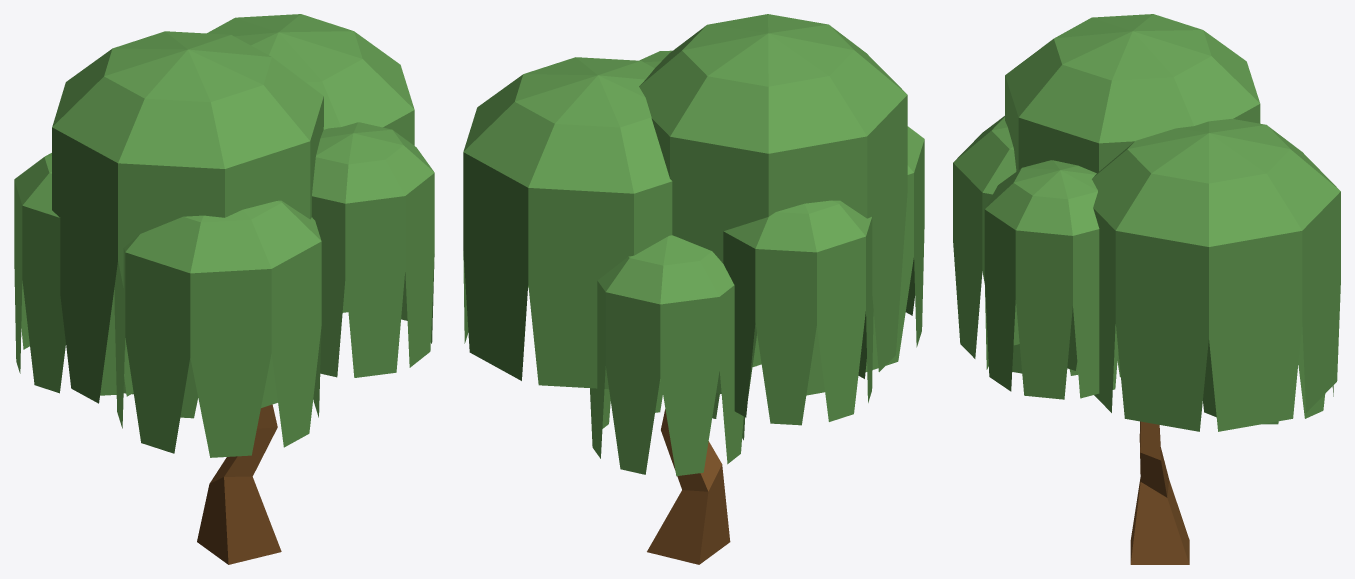
File: Willow_Tree.fbx
3 renders of one model, left to right at view 1: azimuth 30°, elevation 25°; view 2: azimuth 150°, elevation 25°; view 3: azimuth 270°, elevation 25°, orthographic. The views are drawn at different scales.
Visible parts, largest first — view 1: Cube.007; view 2: Cube.007; view 3: Cube.007.
Part boxes in pixels (<box>): Cube.007: <box>14,14,434,564</box>; Cube.007: <box>463,14,924,564</box>; Cube.007: <box>953,14,1340,564</box>.
Bounding box in the file's own units: 6.17 × 8.01 × 5.73.
